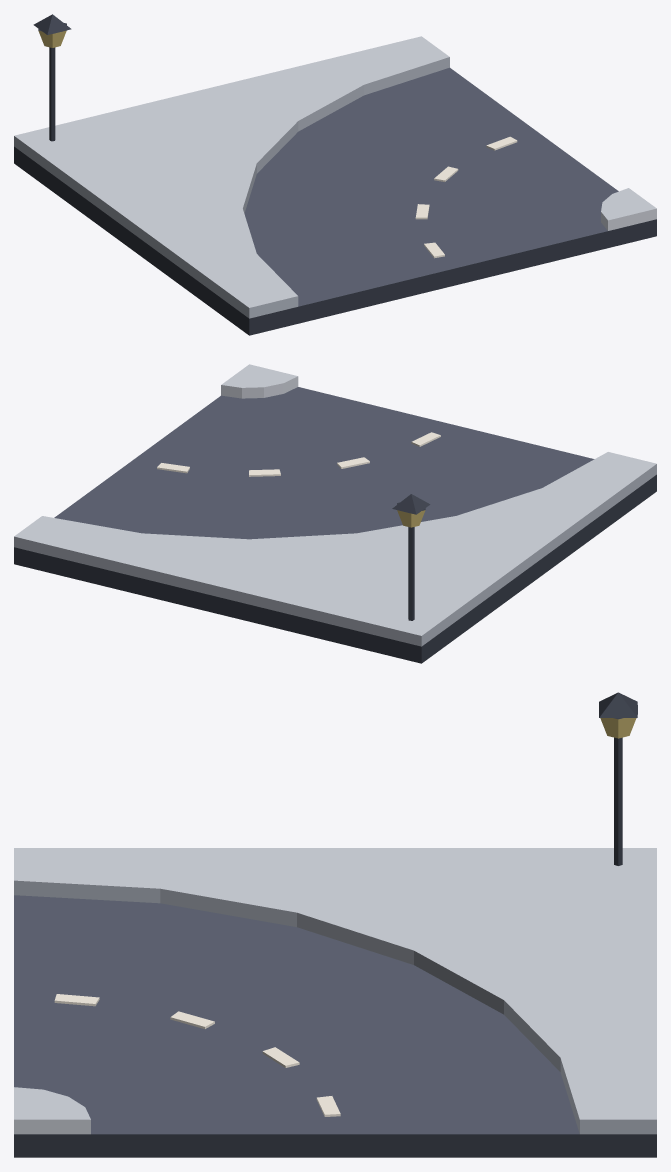
Rendered from road_corner.glb.
3 views of the same model, one above another, from view 1: azimuth 30°, elevation 25°; view 2: azimuth 150°, elevation 25°; view 3: azimuth 270°, elevation 25° (orthographic). The views are drawn at different scales.
Visible parts, largest first — view 1: road_corner; view 2: road_corner; view 3: road_corner.
Part boxes in pixels (left/top/right/bottom): road_corner: left=14, top=14, right=656, bottom=335; road_corner: left=14, top=364, right=656, bottom=663; road_corner: left=14, top=692, right=656, bottom=1157.
Bounding box in the file's own units: 1 × 0.36 × 1.
